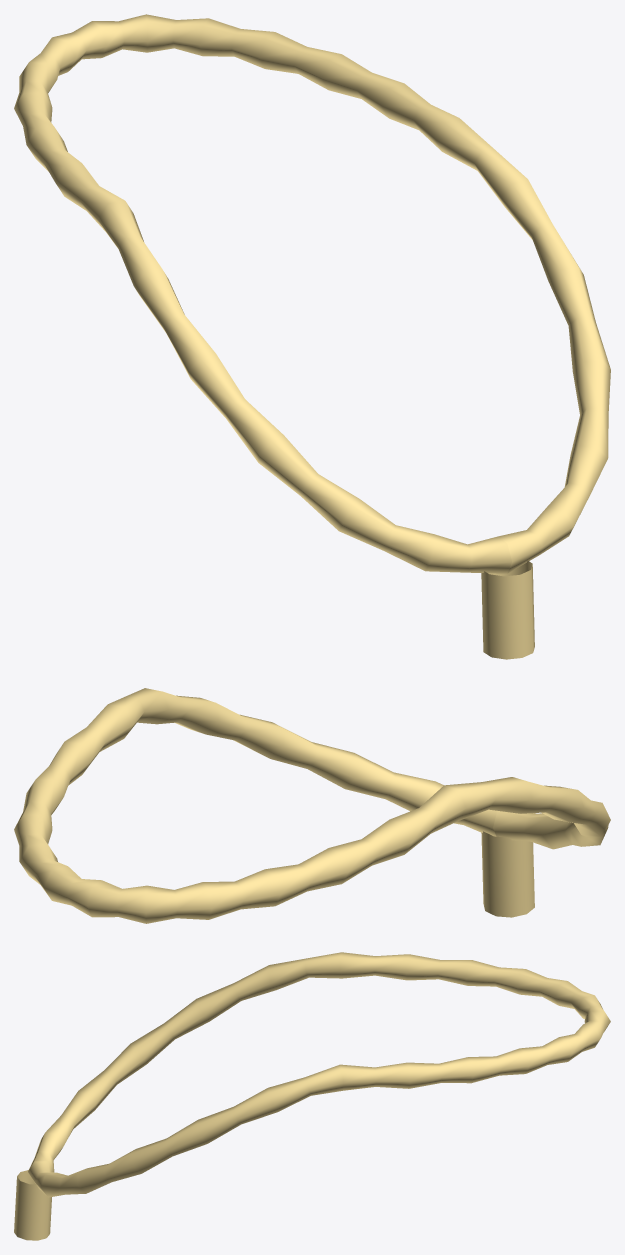
The model's file is corrente_ouro_grossa.glb.
3 views of the same model, one above another, from view 1: azimuth 30°, elevation 25°; view 2: azimuth 150°, elevation 25°; view 3: azimuth 270°, elevation 25° (orthographic). The views are drawn at different scales.
Parts seen in each view (by area): view 1: corrente_ouro_grossa; view 2: corrente_ouro_grossa; view 3: corrente_ouro_grossa.
Boxes of the visible parts, box(x1,y1,x2,y2) form: corrente_ouro_grossa: box(14, 14, 610, 659); corrente_ouro_grossa: box(14, 688, 610, 923); corrente_ouro_grossa: box(14, 952, 610, 1240).
Size of the model in its own units: 0.2097 by 0.1632 by 0.3962.
